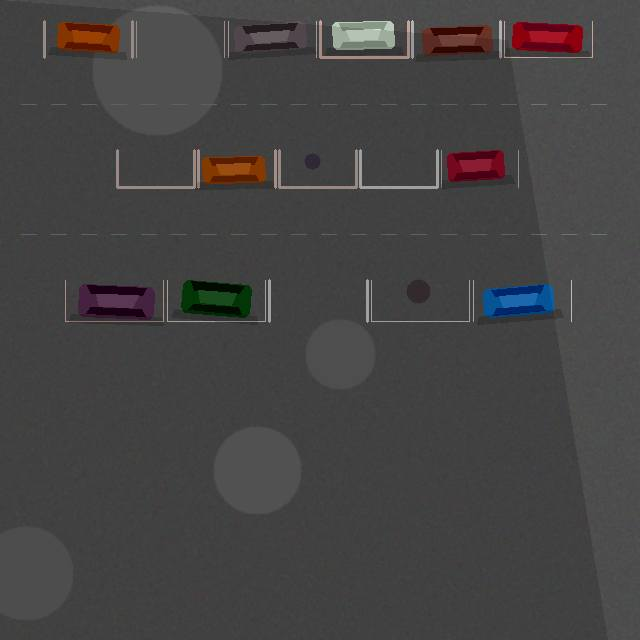space-empty: (269, 280, 367, 321), (371, 280, 469, 321), (136, 21, 224, 57), (117, 150, 194, 187), (279, 150, 356, 187), (360, 150, 437, 187)
space-occupied: (65, 280, 163, 321), (167, 280, 265, 321), (473, 280, 571, 321), (44, 21, 132, 57), (228, 21, 316, 57), (320, 21, 408, 57), (412, 21, 500, 57), (504, 21, 592, 57), (198, 150, 275, 187), (441, 150, 518, 187)
